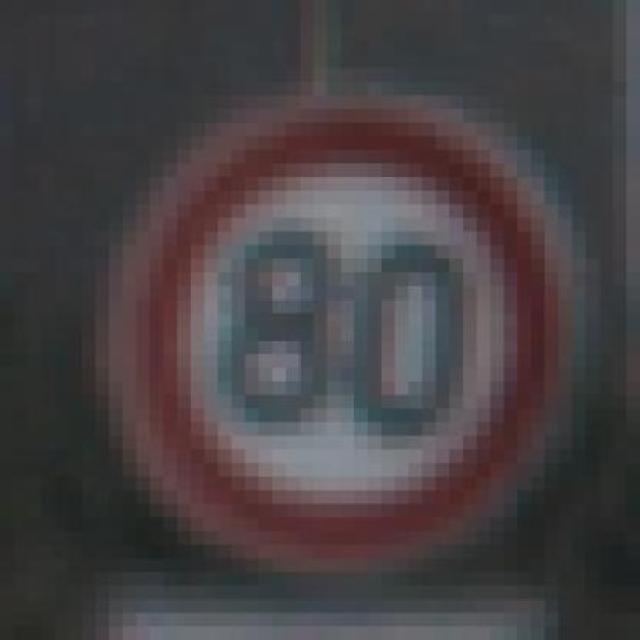forb_speed_over_80: (147, 111, 559, 564)
